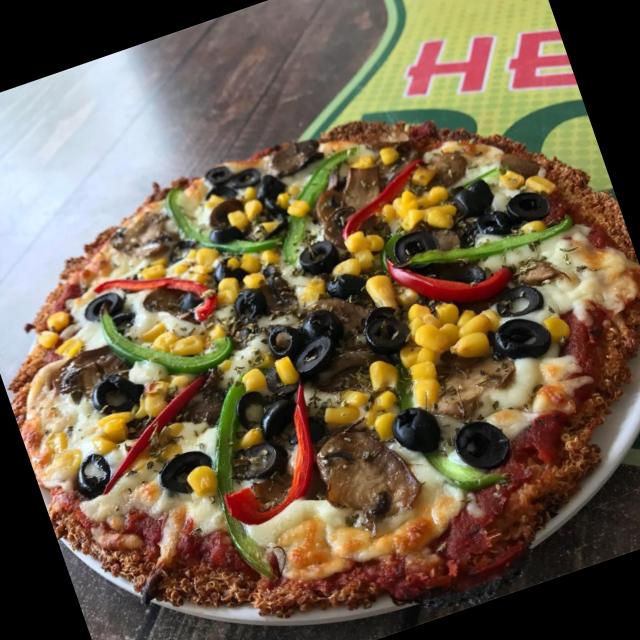black_olives: (443, 408, 520, 478), (384, 396, 450, 462), (153, 442, 224, 498), (491, 308, 554, 366), (88, 364, 147, 424), (359, 297, 413, 359), (228, 434, 292, 484), (490, 274, 550, 326), (204, 151, 262, 203), (68, 446, 124, 498), (283, 332, 340, 382), (504, 180, 560, 230), (446, 178, 499, 224), (296, 302, 346, 350), (388, 224, 441, 268), (262, 318, 306, 362), (228, 385, 272, 429), (292, 236, 340, 274), (324, 266, 370, 304), (252, 190, 292, 232), (80, 288, 124, 326), (224, 284, 265, 322), (466, 208, 512, 241), (260, 398, 298, 434), (202, 217, 240, 250), (256, 172, 284, 198)
mushrooms: (306, 412, 432, 544), (295, 285, 398, 397), (420, 334, 522, 424), (42, 334, 129, 402), (305, 160, 386, 230), (138, 272, 210, 341), (320, 196, 396, 258), (401, 147, 465, 200), (253, 270, 304, 322)
peppers: (179, 375, 305, 586), (198, 386, 338, 531), (392, 345, 507, 506), (93, 271, 235, 392), (89, 238, 228, 356), (398, 199, 582, 288), (386, 224, 522, 328), (79, 374, 221, 471), (162, 160, 280, 276), (258, 144, 375, 254), (326, 158, 442, 240)
pizza: (8, 120, 640, 628)
